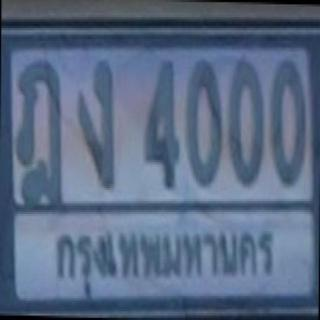A07: (70, 57, 128, 199)
A14: (13, 56, 69, 204)
N00: (267, 56, 310, 189), (183, 56, 224, 192), (227, 54, 267, 184)
N04: (141, 56, 185, 196)
P04: (46, 219, 280, 295)
